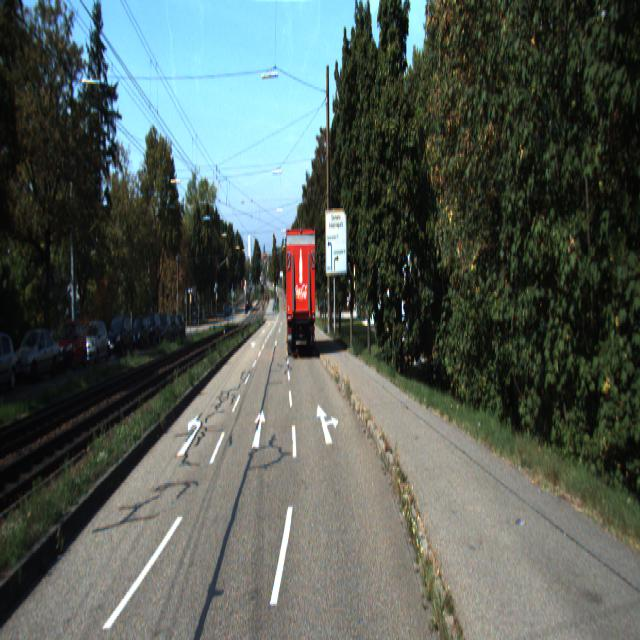Car: (285, 224, 318, 356), (10, 327, 61, 385), (56, 317, 90, 372), (0, 330, 19, 395), (83, 321, 111, 365), (106, 317, 133, 362), (129, 313, 150, 347)
